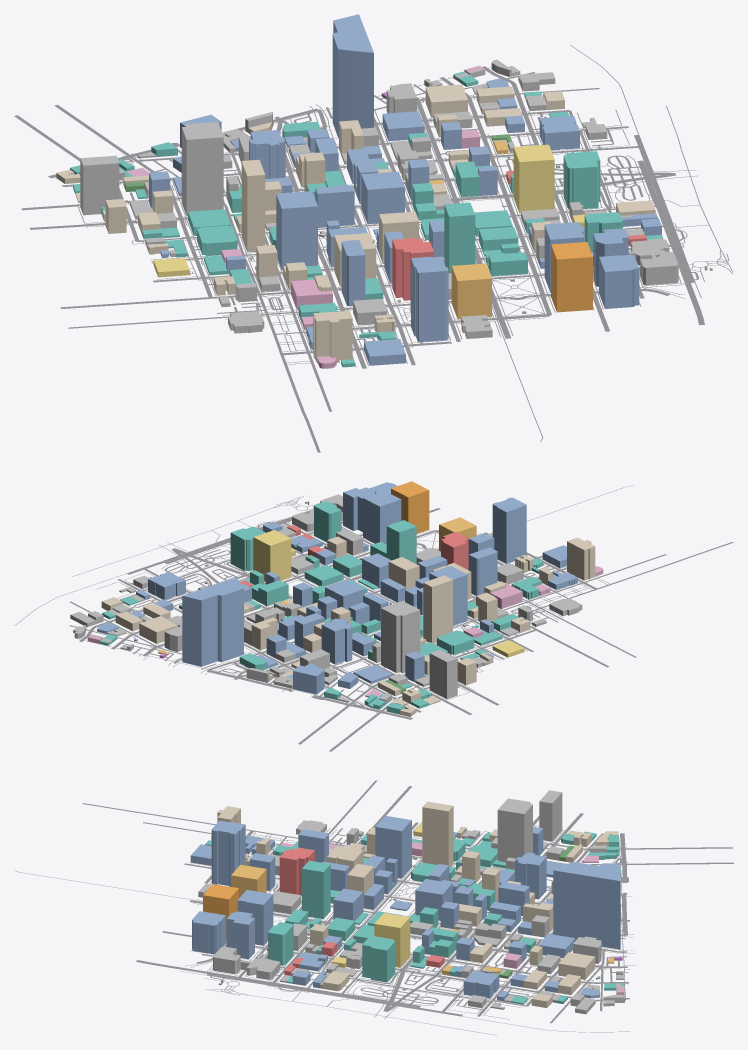
File: portland.gltf
3 views of the same model, one above another, from view 1: azimuth 30°, elevation 25°; view 2: azimuth 150°, elevation 25°; view 3: azimuth 270°, elevation 25° (orthographic). The views are drawn at different scales.
Size of the model in its own units: 1300 by 163 by 1551.
